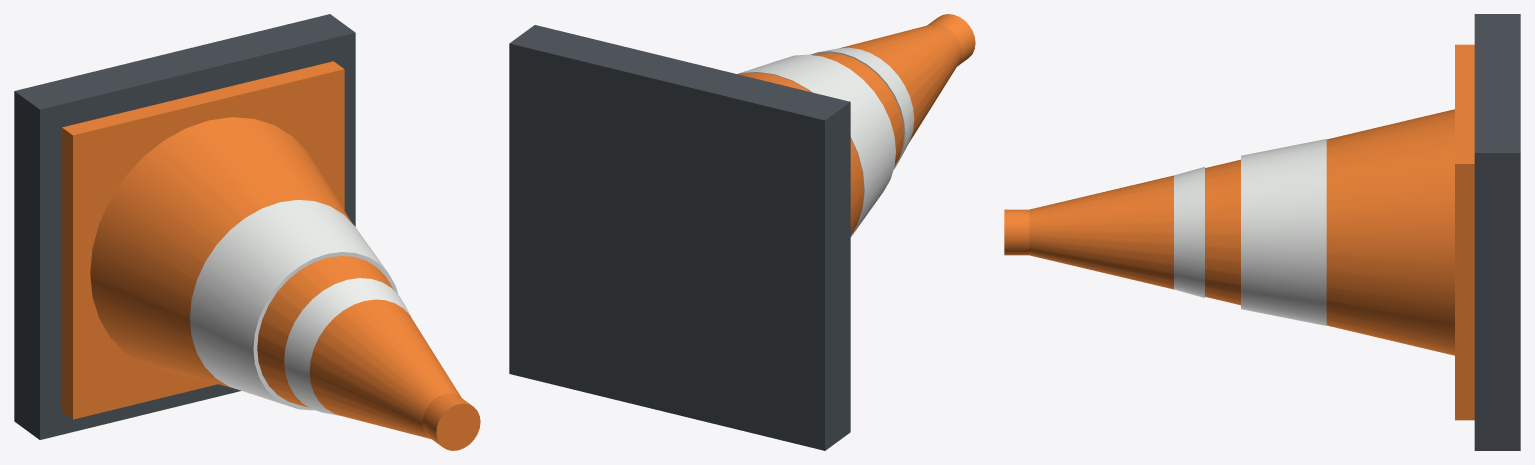
File: safety-cone.glb
3 views of the same model, side by side, from view 1: azimuth 30°, elevation 25°; view 2: azimuth 150°, elevation 25°; view 3: azimuth 270°, elevation 25° (orthographic). The views are drawn at different scales.
Visible parts, largest first — view 1: cone-body, weighted-base, base-color, reflective-lower, reflective-upper, top-cap; view 2: weighted-base, cone-body, reflective-lower, reflective-upper, top-cap; view 3: cone-body, weighted-base, reflective-lower, base-color, reflective-upper, top-cap.
Part boxes in pixels (left/top/right/bottom): cone-body: left=90, top=117, right=461, bottom=439; weighted-base: left=14, top=14, right=355, bottom=439; base-color: left=62, top=61, right=344, bottom=419; reflective-lower: left=190, top=200, right=398, bottom=410; reflective-upper: left=284, top=278, right=411, bottom=416; top-cap: left=422, top=393, right=480, bottom=450; weighted-base: left=509, top=25, right=850, bottom=450; cone-body: left=738, top=24, right=961, bottom=235; reflective-lower: left=737, top=54, right=895, bottom=236; reflective-upper: left=810, top=47, right=914, bottom=169; top-cap: left=927, top=14, right=975, bottom=66; cone-body: left=1029, top=109, right=1454, bottom=355; weighted-base: left=1474, top=14, right=1520, bottom=450; reflective-lower: left=1241, top=139, right=1326, bottom=325; base-color: left=1455, top=44, right=1474, bottom=420; reflective-upper: left=1174, top=167, right=1204, bottom=297; top-cap: left=1004, top=209, right=1029, bottom=255.
Size of the model in its own units: 0.5 by 0.5 by 0.785.
